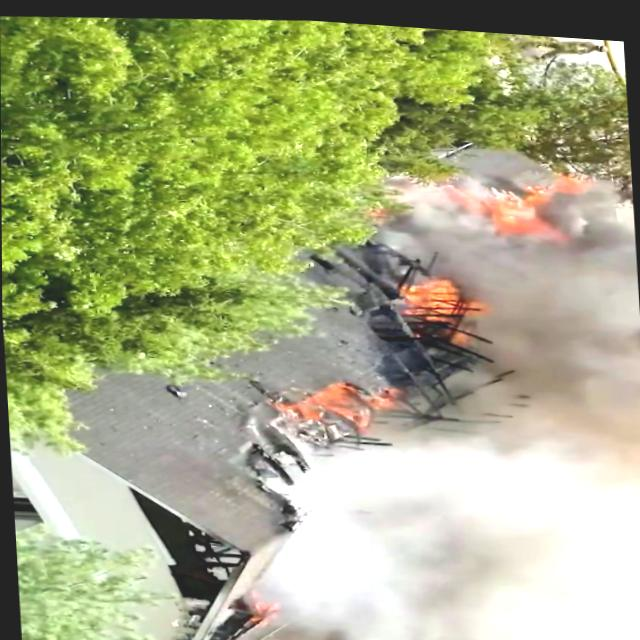smoke: (549, 322, 640, 640), (509, 210, 640, 401)
